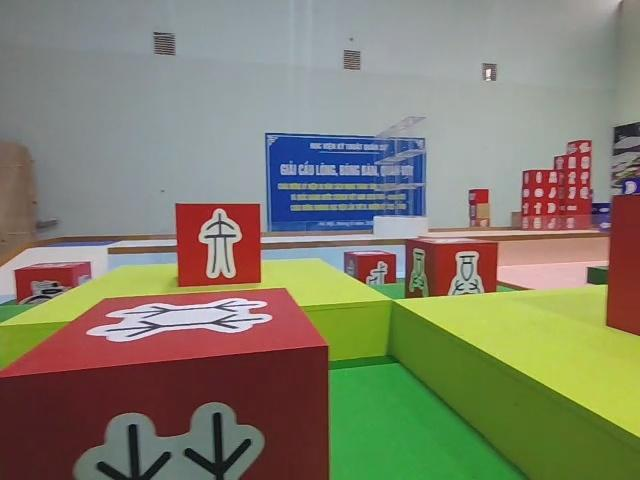R1: (12, 258, 93, 305)
R2 Fake: (174, 201, 263, 289)
R2 Real: (4, 286, 330, 480), (403, 236, 499, 299), (342, 249, 398, 292)
